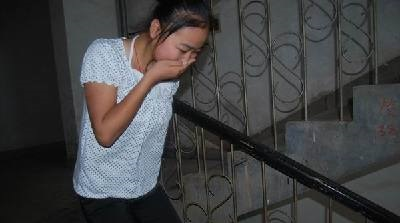face: (153, 25, 211, 71)
